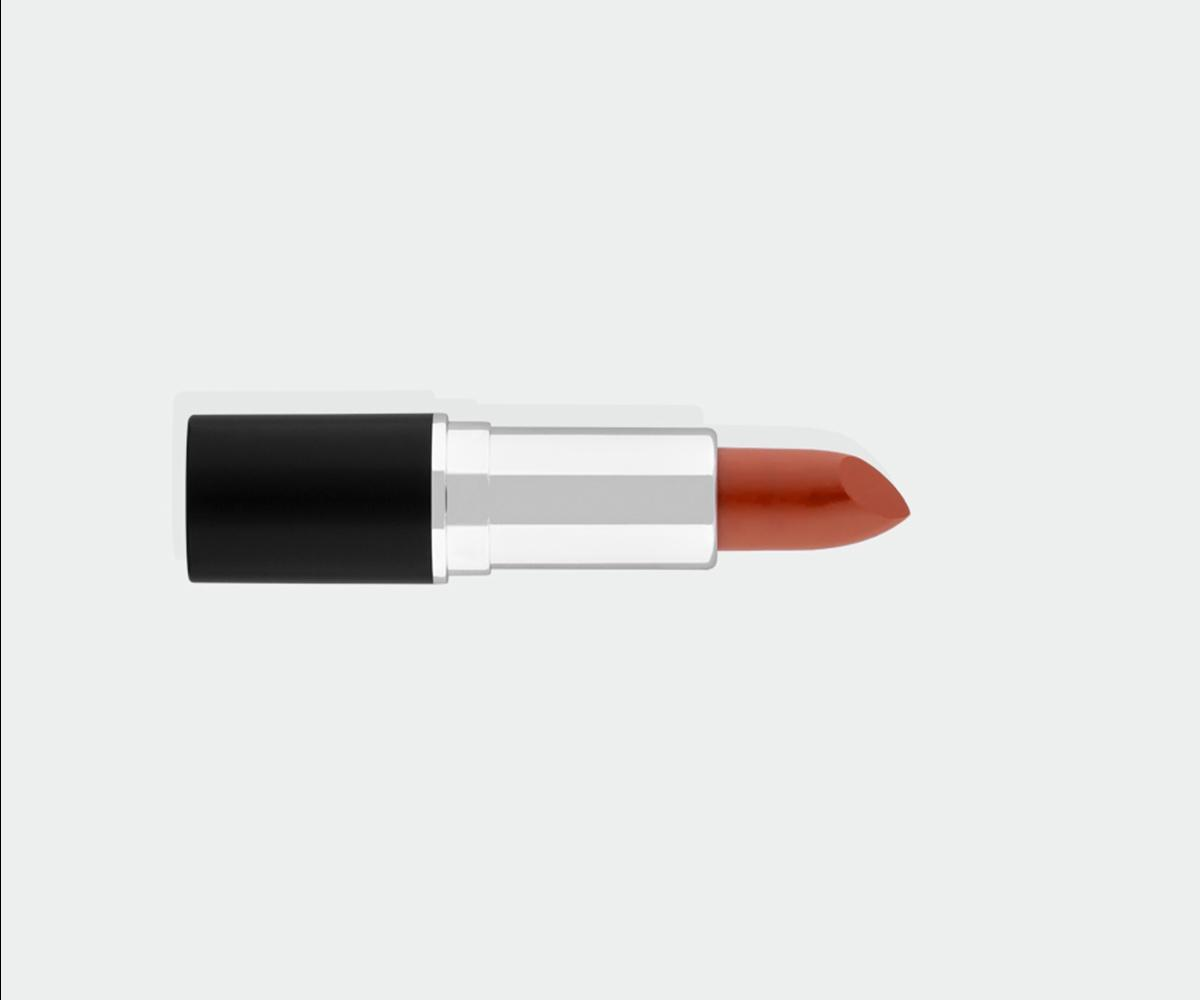lipstick: (171, 378, 918, 628)
